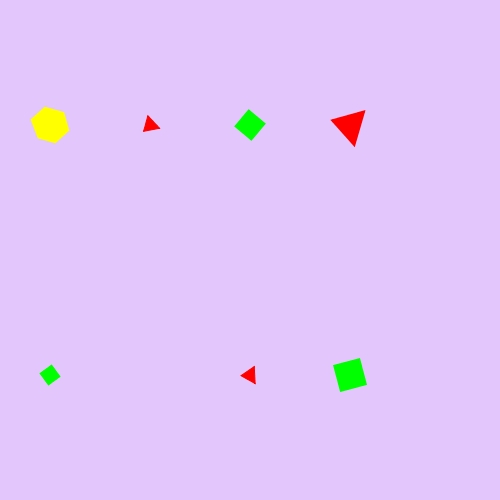hexagon: (26, 105, 74, 145)
quadrilateral: (327, 352, 373, 398), (231, 106, 270, 145), (35, 360, 65, 390)
triangle: (330, 104, 370, 146), (138, 112, 163, 138), (238, 362, 263, 388)
